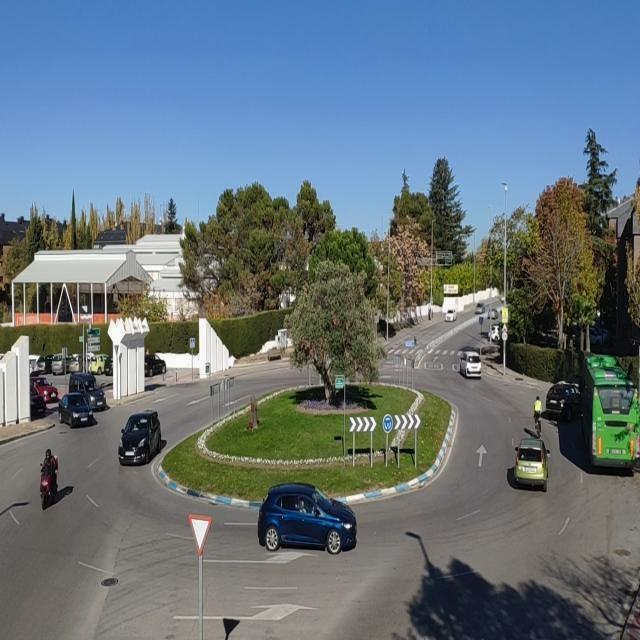Bus: (576, 348, 640, 474)
Car: (257, 483, 357, 553), (118, 411, 162, 465), (513, 438, 550, 492), (66, 373, 105, 413), (545, 382, 581, 421), (57, 392, 94, 426), (30, 377, 60, 405), (459, 352, 482, 378), (68, 353, 96, 374), (50, 353, 74, 375), (144, 354, 167, 376), (30, 389, 46, 417), (87, 354, 109, 374), (36, 354, 56, 374), (590, 326, 609, 346), (489, 323, 502, 342), (444, 308, 457, 322), (104, 354, 112, 375), (488, 308, 498, 320), (476, 303, 484, 315)
Cycle: (38, 462, 60, 512)
